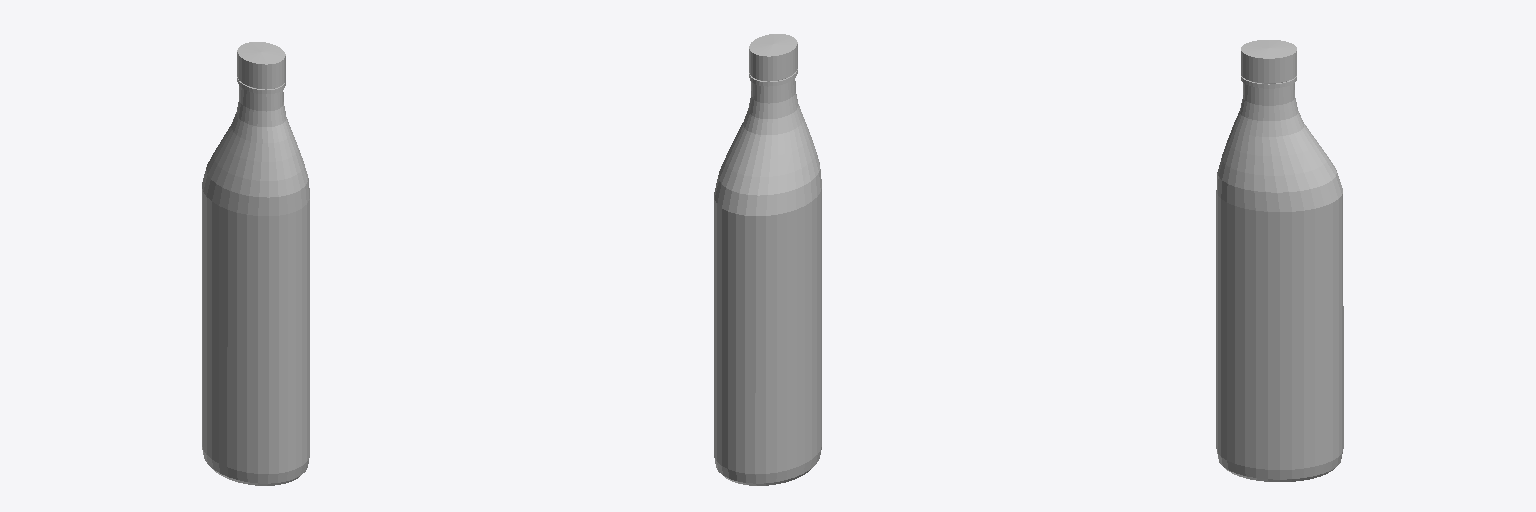
File: bottle_1.obj
3 views of the same model, side by side, from view 1: azimuth 30°, elevation 25°; view 2: azimuth 150°, elevation 25°; view 3: azimuth 270°, elevation 25° (orthographic).
Visible parts, largest first — view 1: bottle1 group1; view 2: bottle1 group1; view 3: bottle1 group1.
Part boxes in pixels (left/top/right/bottom): bottle1 group1: left=202, top=42, right=309, bottom=485; bottle1 group1: left=714, top=34, right=821, bottom=485; bottle1 group1: left=1216, top=40, right=1343, bottom=481.
Size of the model in its own units: 8.67 by 39.06 by 10.83.